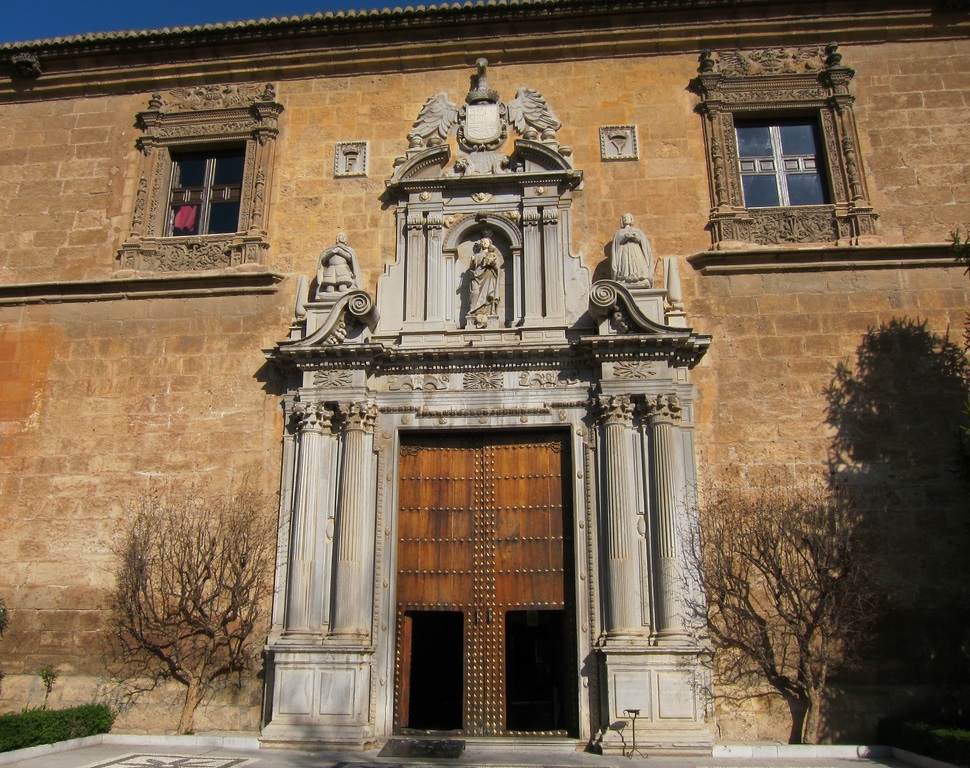fronton-partido: (275, 276, 706, 361), (388, 133, 581, 190)
vano-adintelado: (372, 405, 607, 742), (709, 91, 863, 219), (128, 124, 280, 243)
